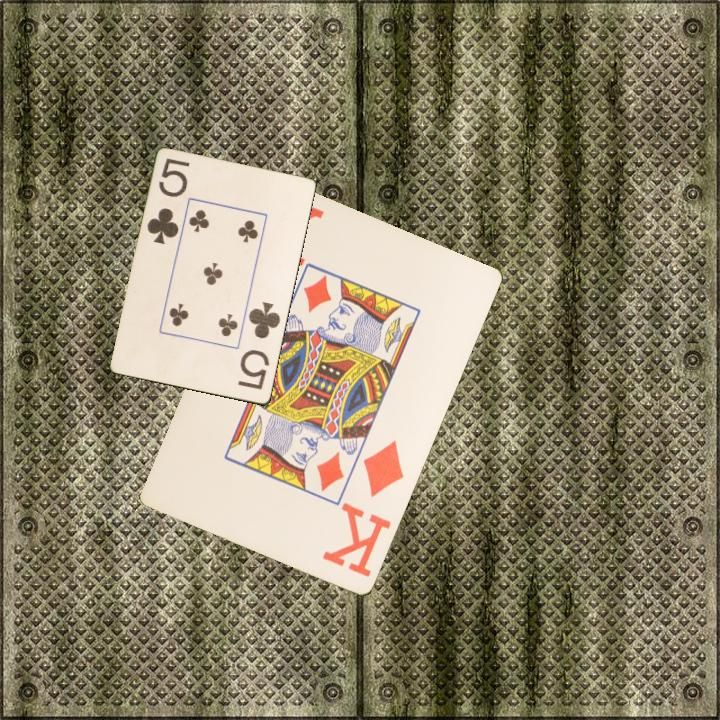5c: (235, 298, 284, 393), (144, 155, 193, 248)
Kd: (319, 437, 408, 581)
